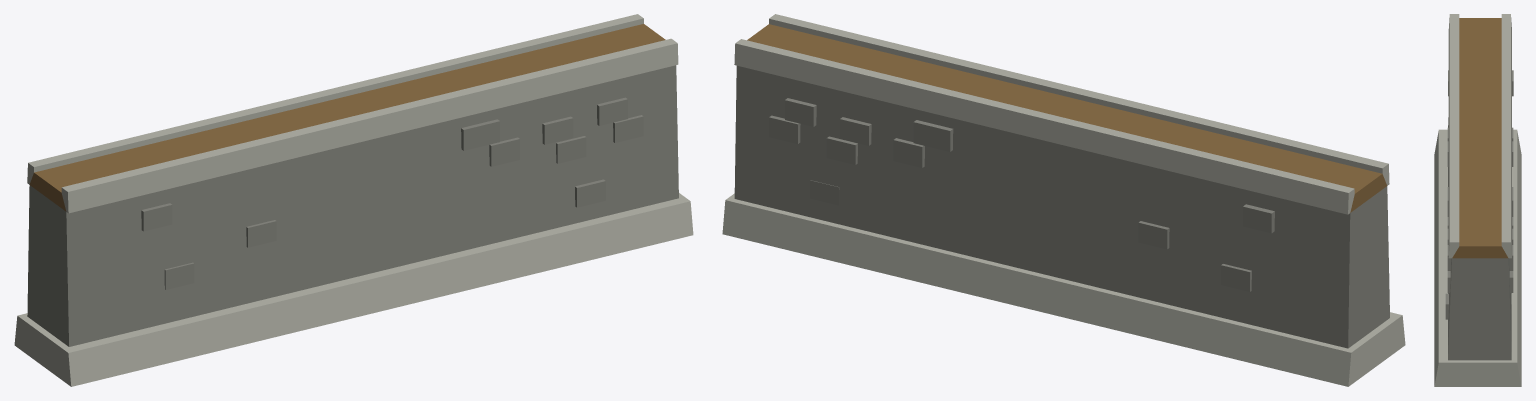
File: Wall_SecondAge.gltf
3 renders of one model, left to right at view 1: azimuth 30°, elevation 25°; view 2: azimuth 150°, elevation 25°; view 3: azimuth 270°, elevation 25°, orthographic. The views are drawn at different scales.
Visible parts, largest first — view 1: Wall_SecondAge; view 2: Wall_SecondAge; view 3: Wall_SecondAge.
Boxes of the visible parts, left/top/right/bottom form: Wall_SecondAge: left=14, top=14, right=693, bottom=386; Wall_SecondAge: left=722, top=14, right=1405, bottom=386; Wall_SecondAge: left=1434, top=14, right=1521, bottom=386.
Size of the model in its own units: 1.56 by 0.4459 by 0.2467.
